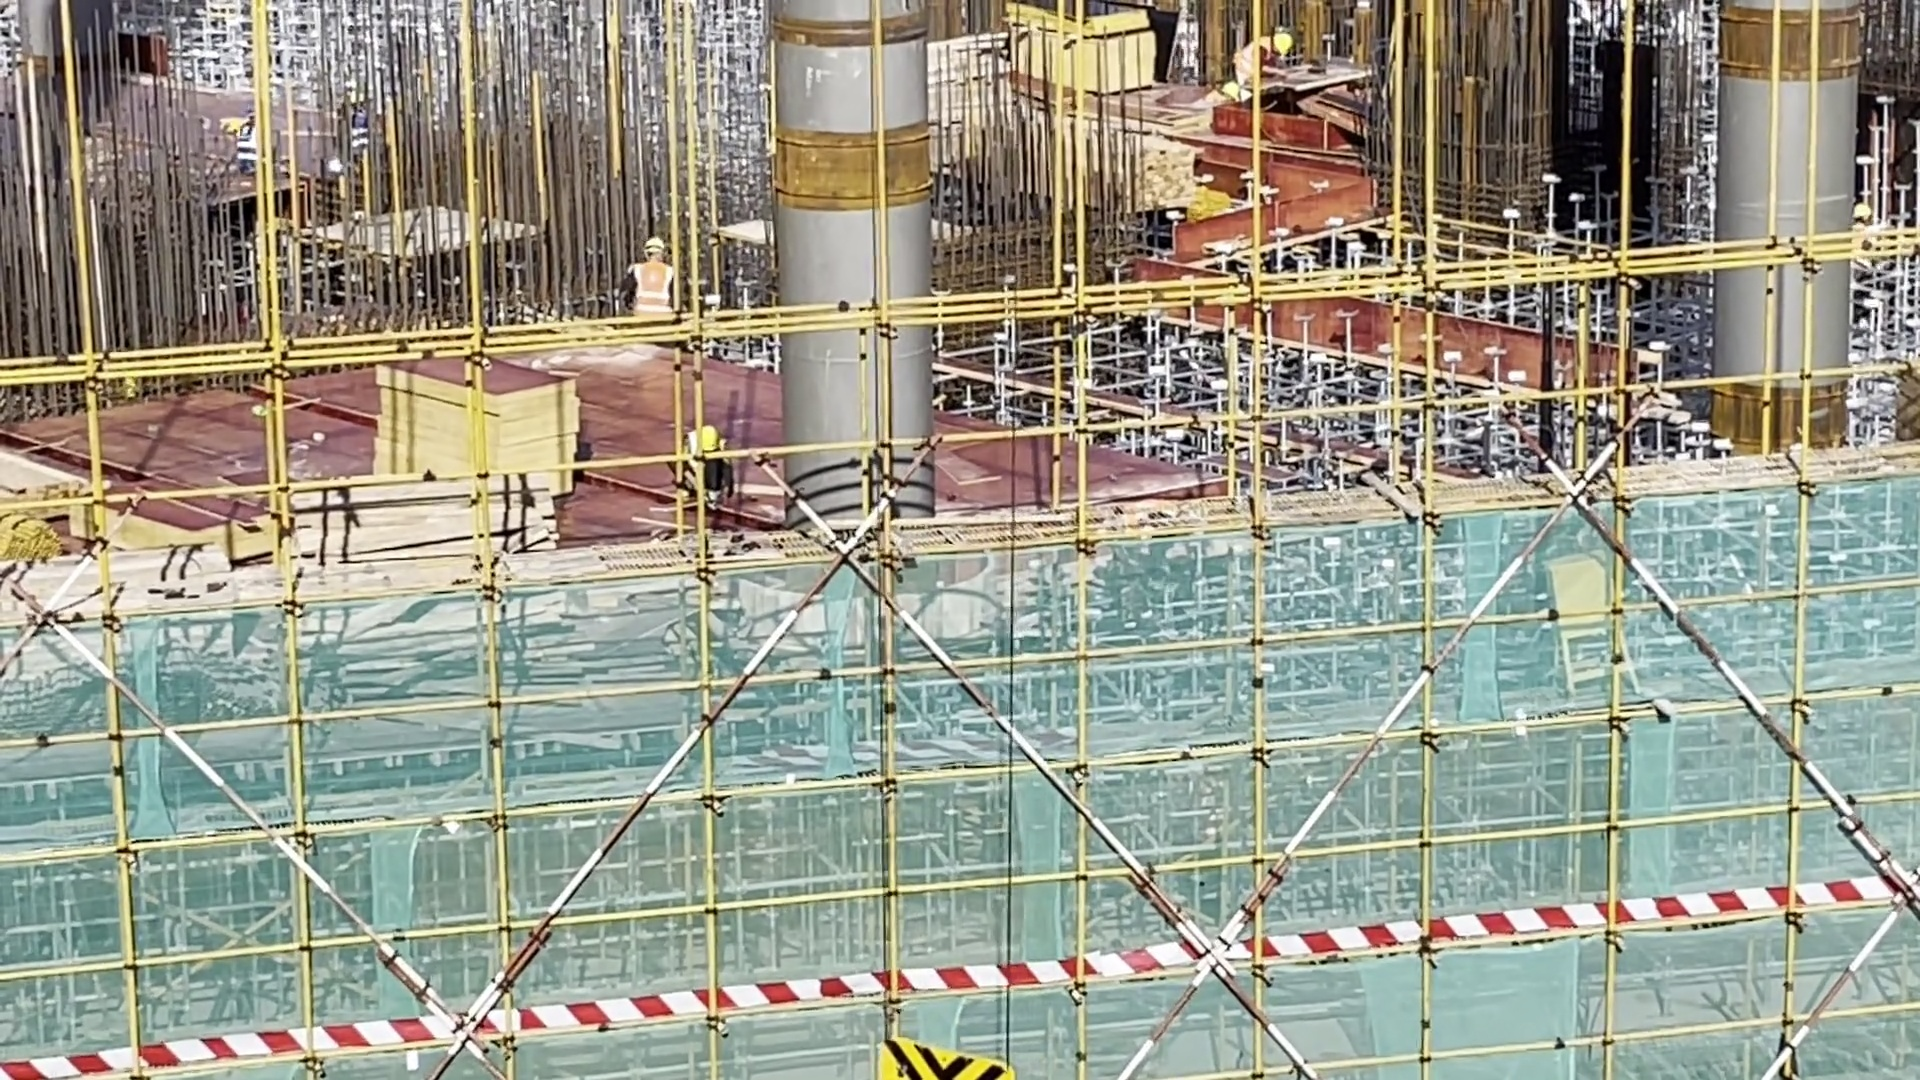board: (374, 357, 573, 483)
helmet: (698, 426, 724, 450), (1273, 31, 1293, 52)
hook: (878, 1041, 1006, 1080)
person: (619, 237, 675, 316), (1228, 24, 1294, 84)
vest: (1229, 33, 1272, 81), (632, 263, 669, 315)
